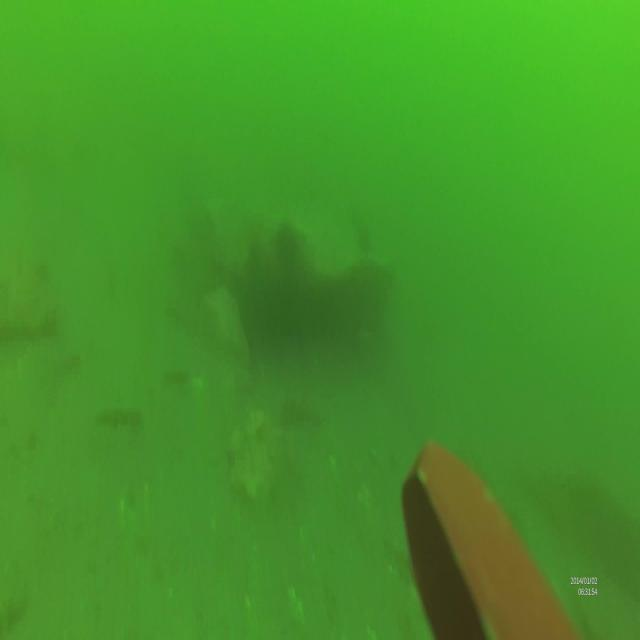holothurian: (98, 398, 144, 428)
